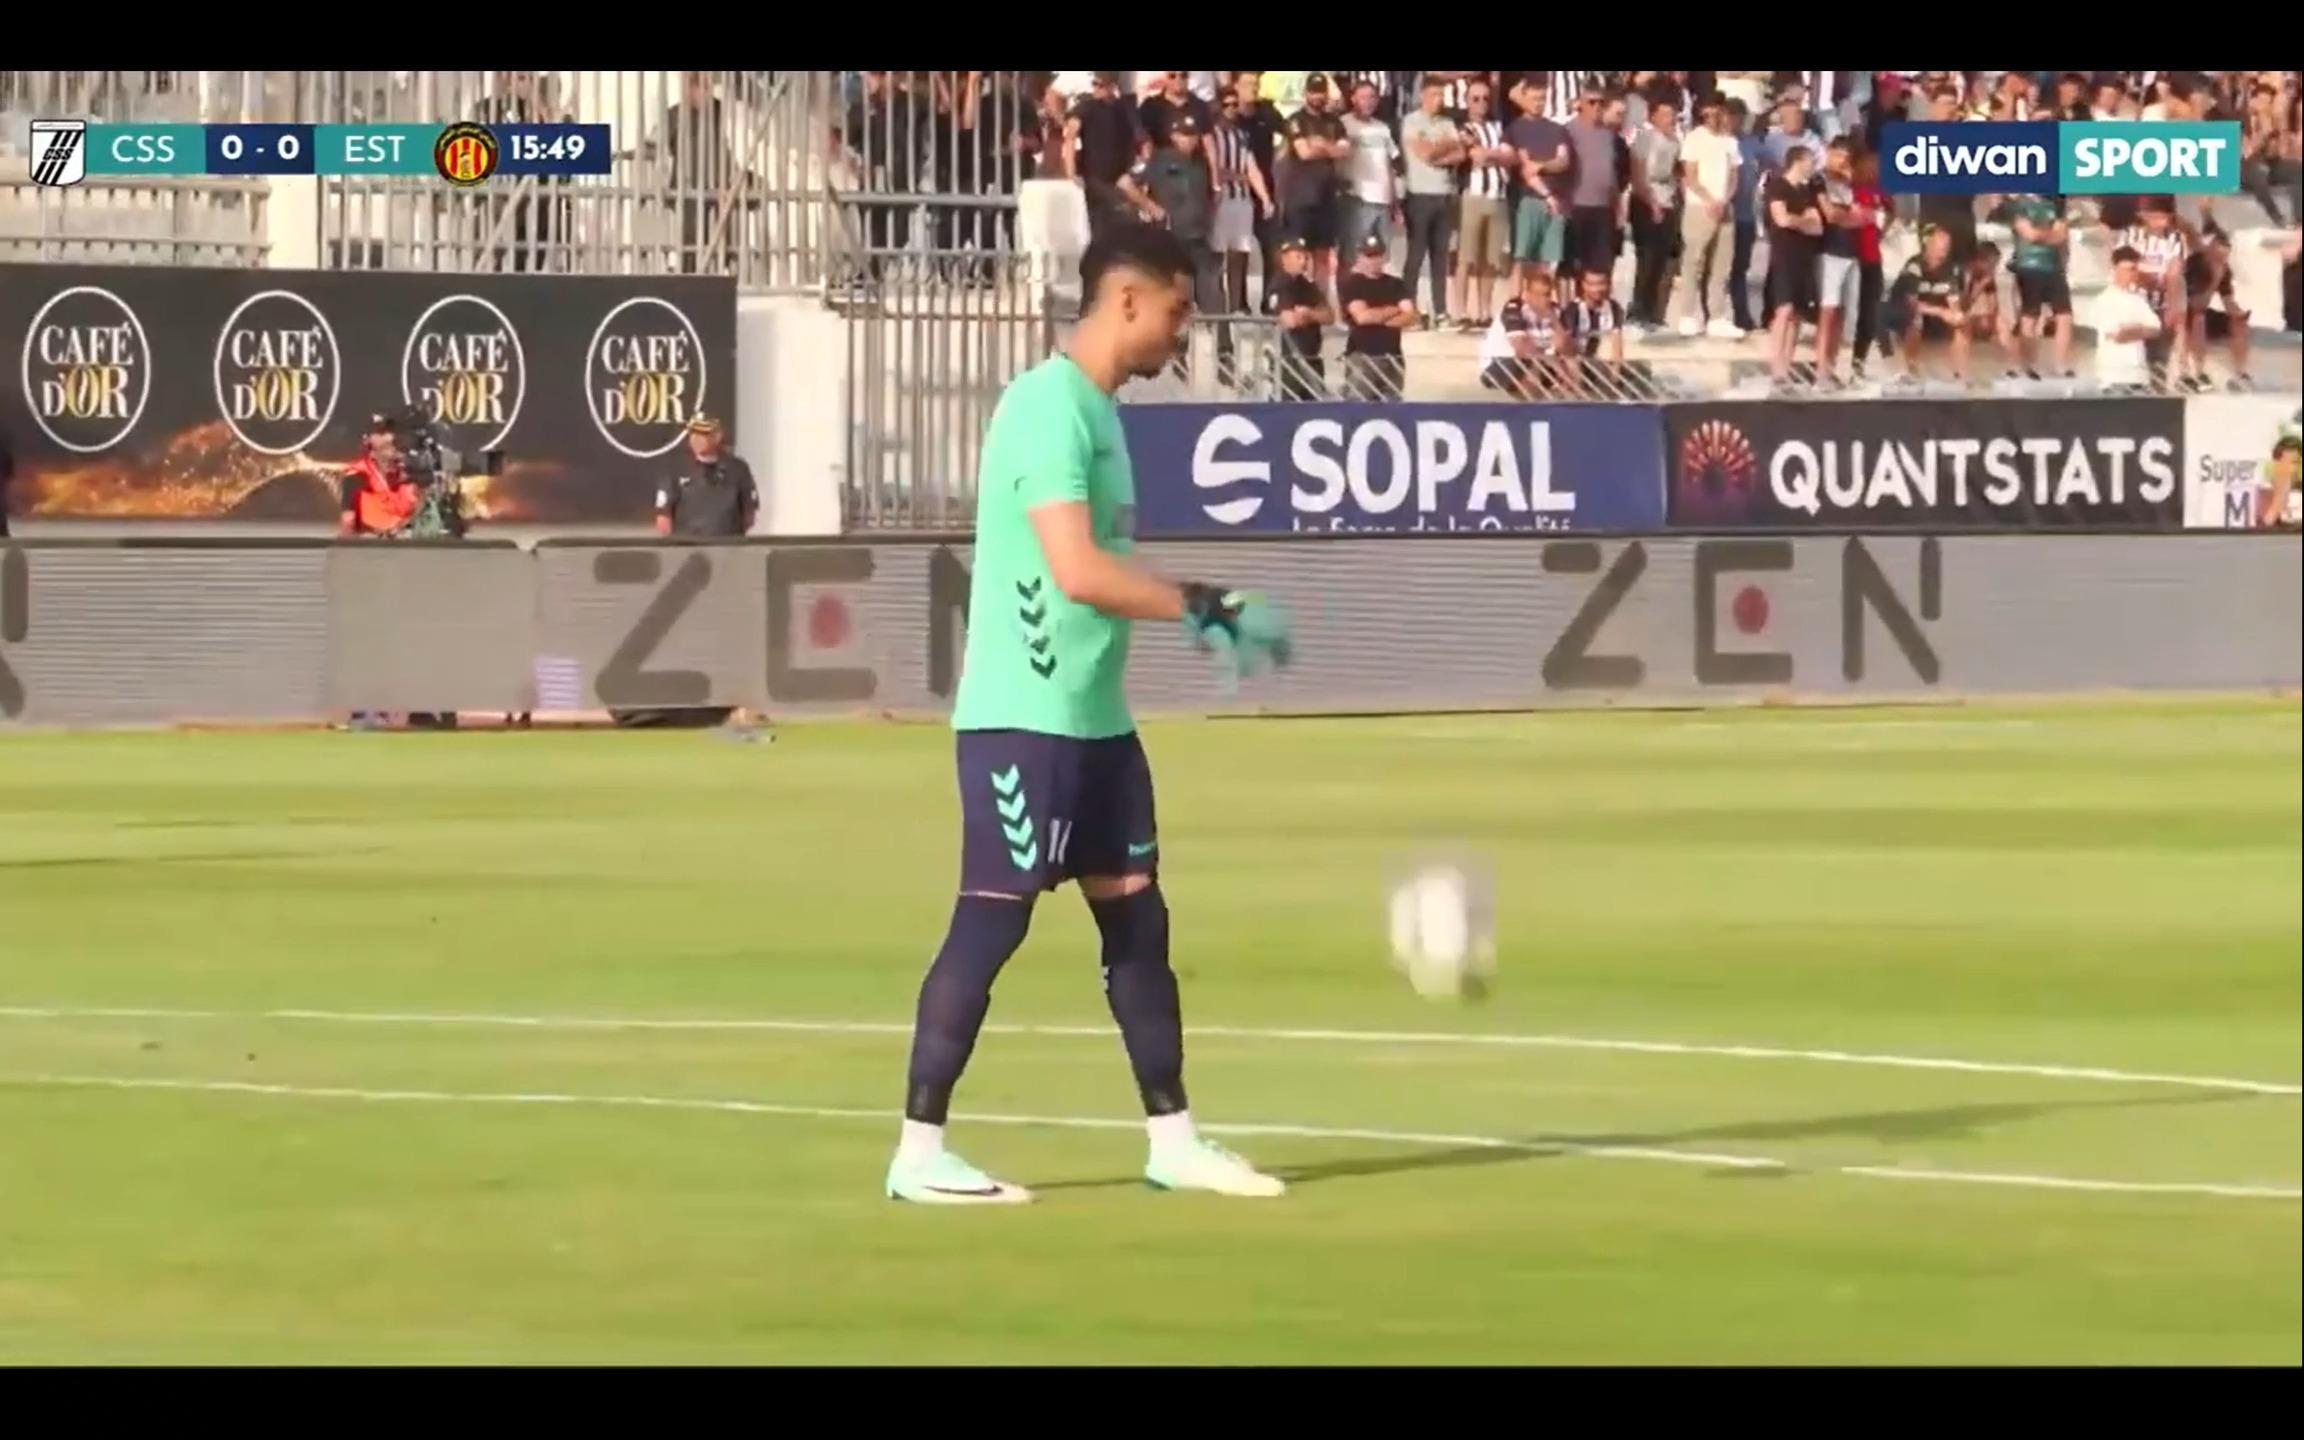ball: (1385, 854, 1541, 1032)
goalkeeper: (884, 219, 1317, 1234)
